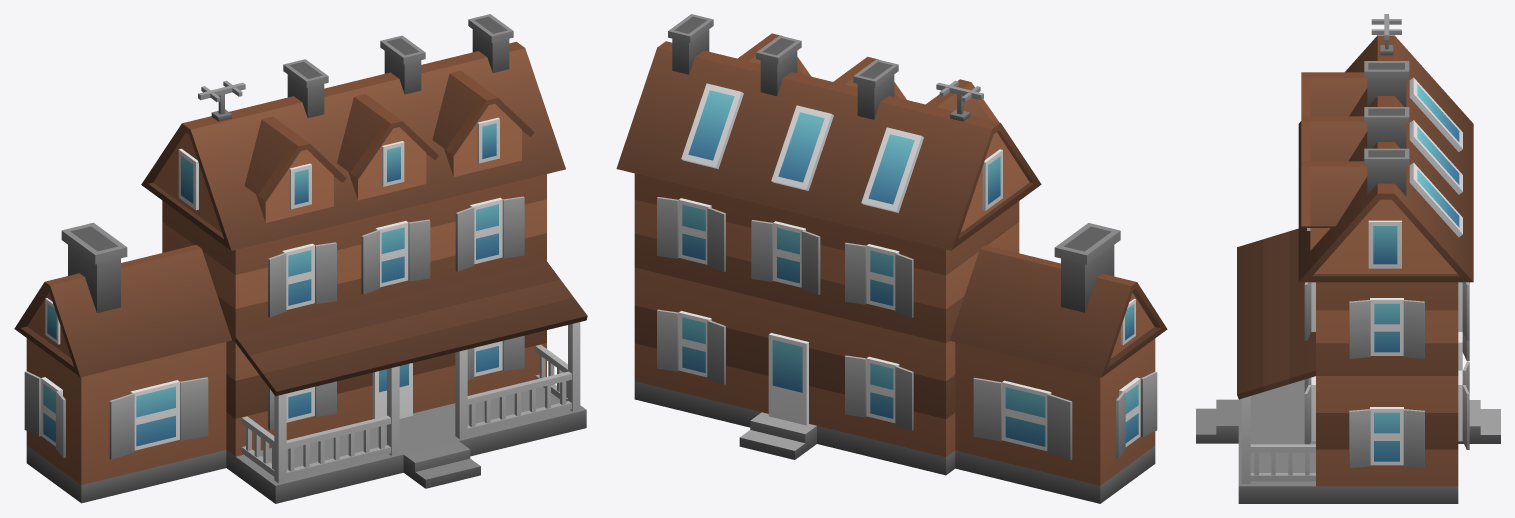
The model's file is big house with veranda new.fbx.
3 renders of one model, left to right at view 1: azimuth 30°, elevation 25°; view 2: azimuth 150°, elevation 25°; view 3: azimuth 270°, elevation 25°, orthographic. The views are drawn at different scales.
Parts seen in each view (by area): view 1: big_house_with_veranda; view 2: big_house_with_veranda; view 3: big_house_with_veranda.
Part boxes in pixels (x1,y1,x2,y2): big_house_with_veranda: [14, 14, 587, 503]; big_house_with_veranda: [616, 14, 1167, 503]; big_house_with_veranda: [1196, 14, 1500, 503].
Bounding box in the file's own units: 1271 × 901 × 726.
1 material, 1 textured.
